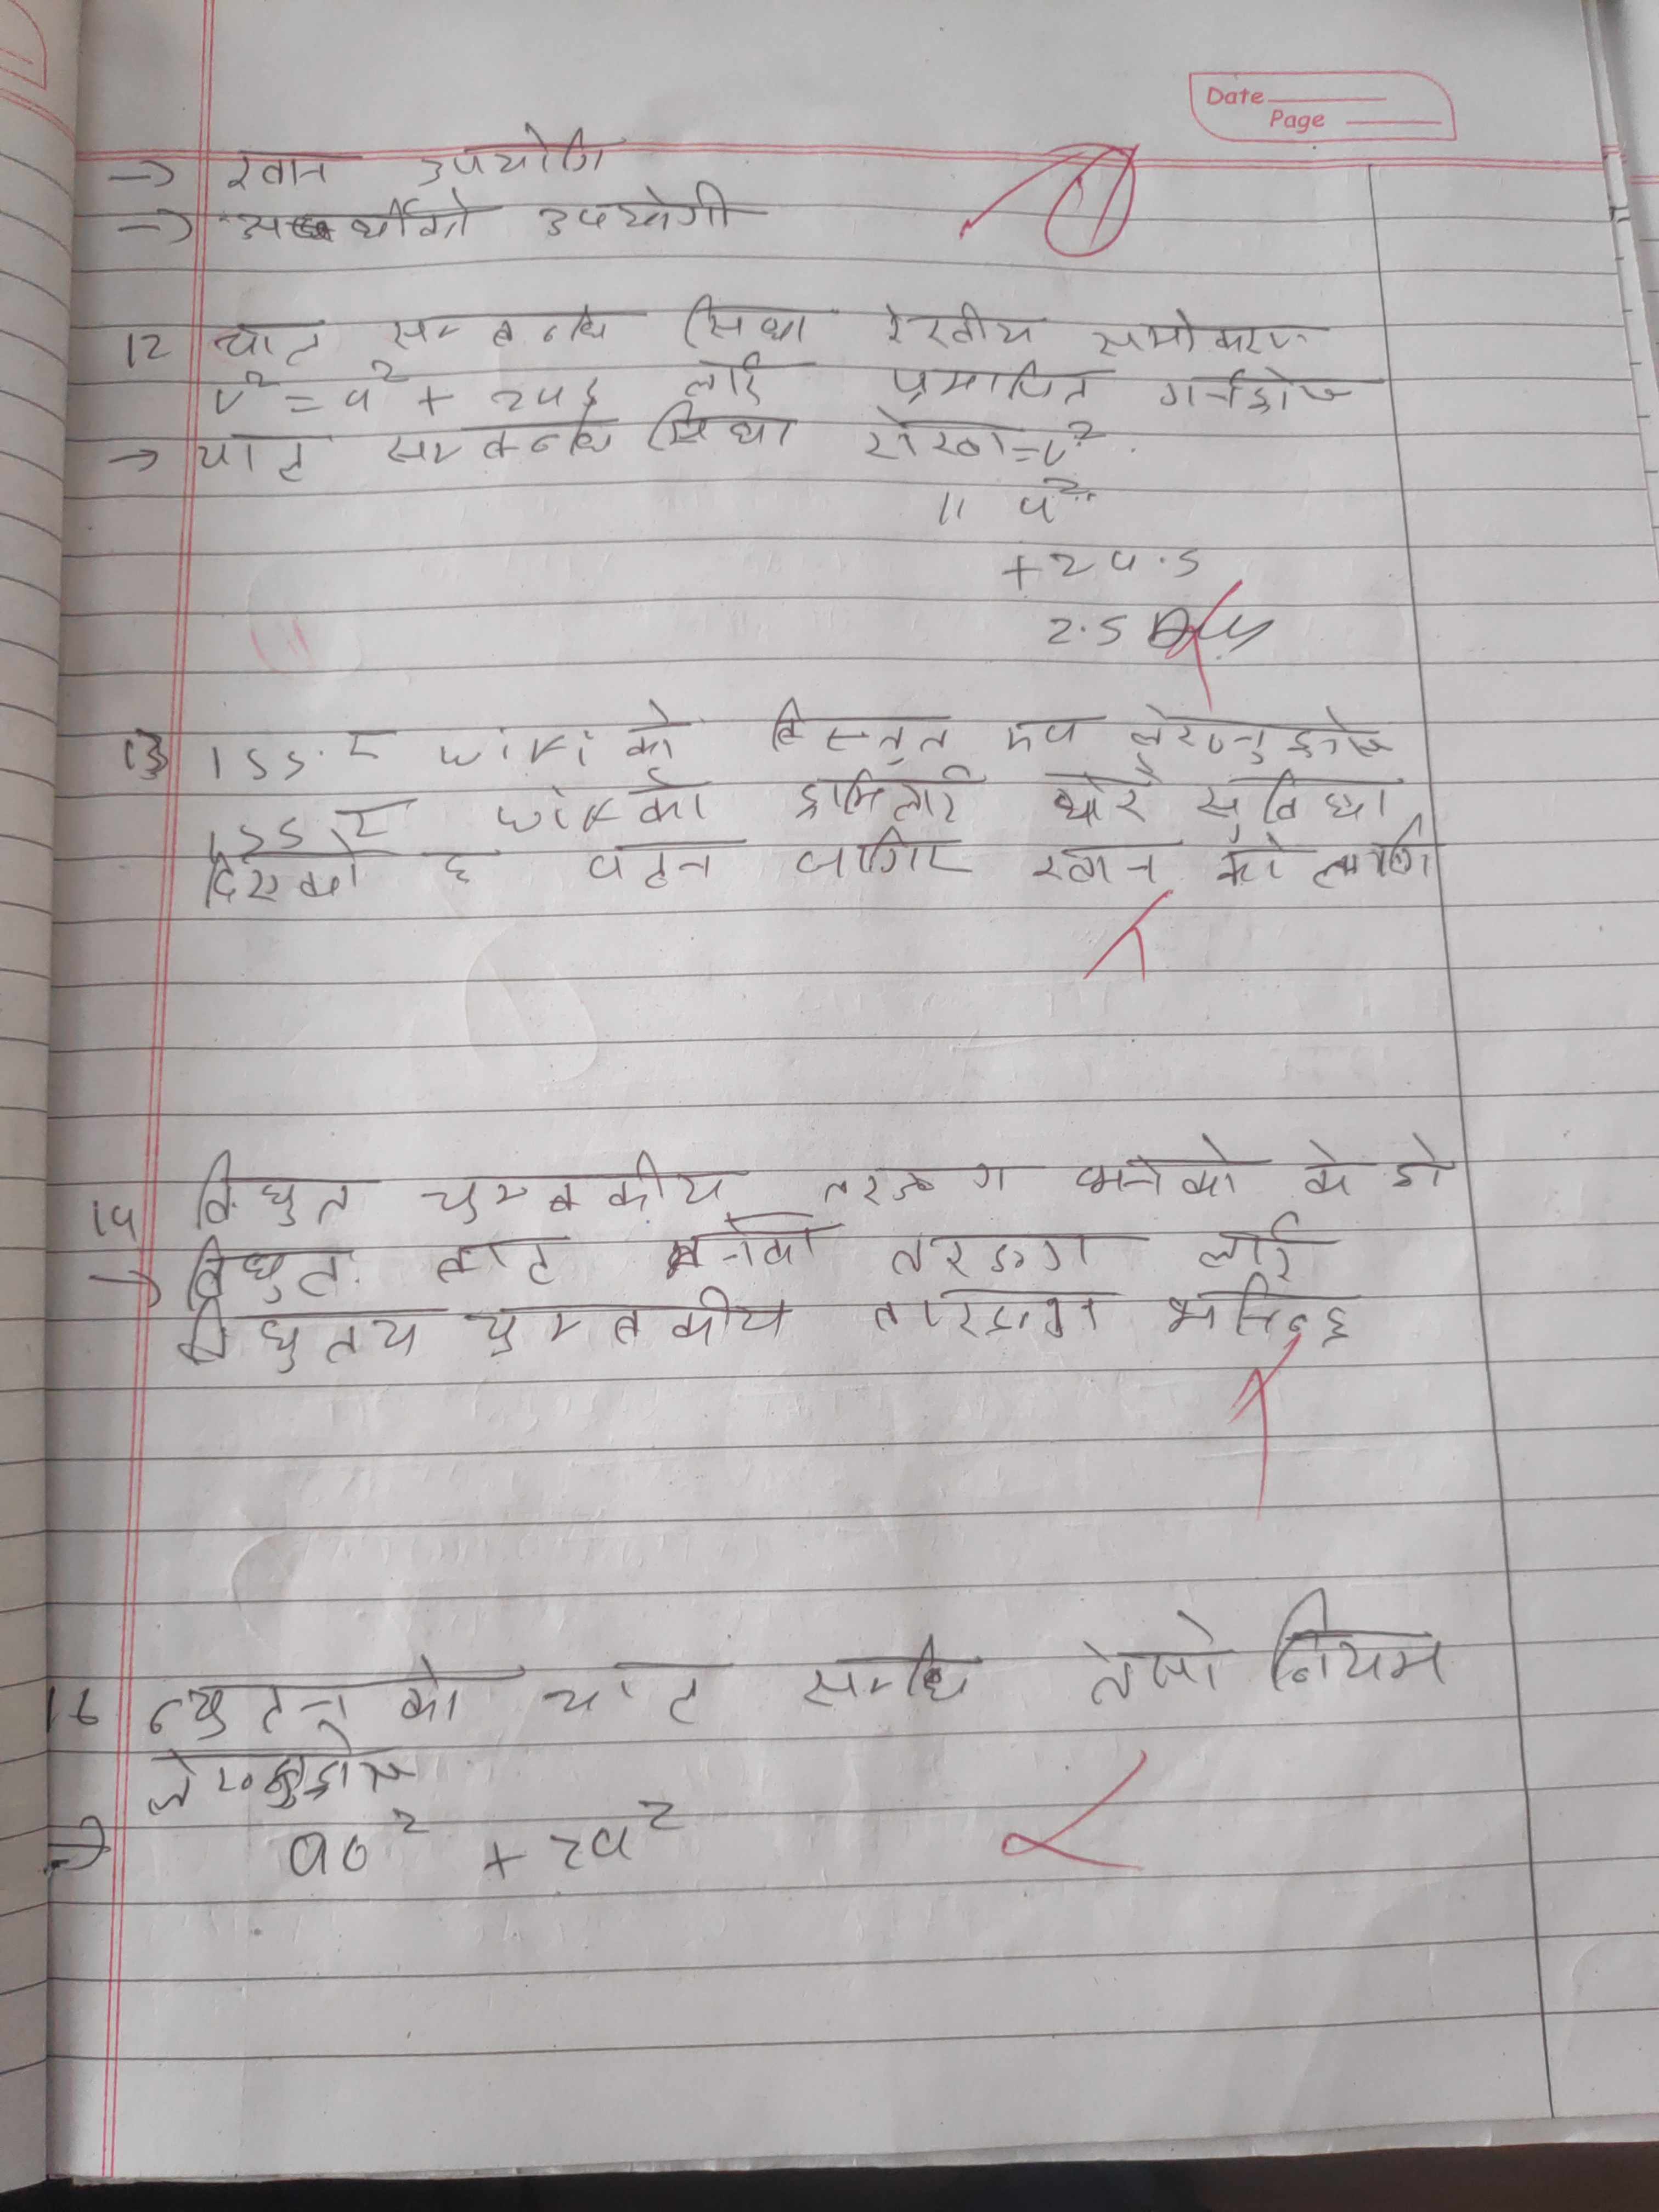text: (141, 1656, 528, 1737), (136, 1728, 420, 1818), (465, 1284, 795, 1357), (413, 1148, 755, 1216), (173, 1298, 450, 1378), (1263, 1581, 1453, 1698), (1126, 695, 1398, 766), (1068, 1608, 1234, 1714), (181, 1146, 380, 1230), (878, 1223, 1159, 1278), (1155, 1273, 1359, 1350), (861, 1285, 1121, 1345), (410, 120, 624, 192), (530, 181, 770, 242), (765, 691, 955, 768), (885, 350, 1115, 413), (796, 1635, 983, 1712), (1089, 305, 1330, 364), (542, 1656, 737, 1728), (383, 413, 620, 470), (1194, 765, 1394, 829), (380, 301, 647, 348), (1068, 1136, 1248, 1205), (1154, 361, 1384, 415), (223, 195, 484, 242), (791, 765, 974, 831), (181, 1237, 359, 1305), (195, 836, 369, 904), (657, 1214, 845, 1277), (789, 827, 976, 883), (814, 1163, 1042, 1209), (676, 291, 833, 354), (875, 296, 1042, 354), (580, 840, 748, 894), (1314, 824, 1441, 894), (1195, 1212, 1317, 1282), (863, 413, 1019, 467), (647, 401, 800, 455), (436, 1230, 572, 1289), (1028, 836, 1175, 890), (220, 141, 361, 195), (188, 430, 338, 481), (1039, 766, 1157, 829), (209, 317, 329, 364), (674, 352, 779, 406), (624, 768, 716, 826), (1000, 707, 1101, 758), (617, 698, 692, 763), (1392, 1125, 1455, 1202), (1293, 1137, 1363, 1202), (418, 845, 509, 894), (1220, 833, 1293, 888)
